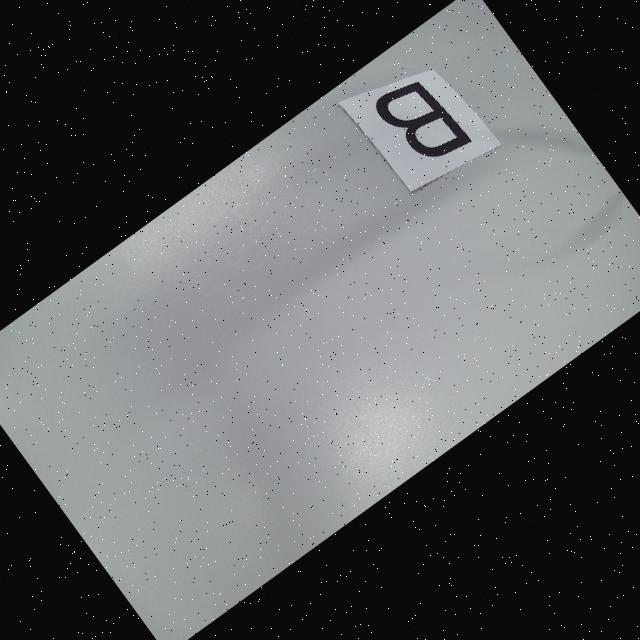FAKE: (371, 68, 472, 175)
